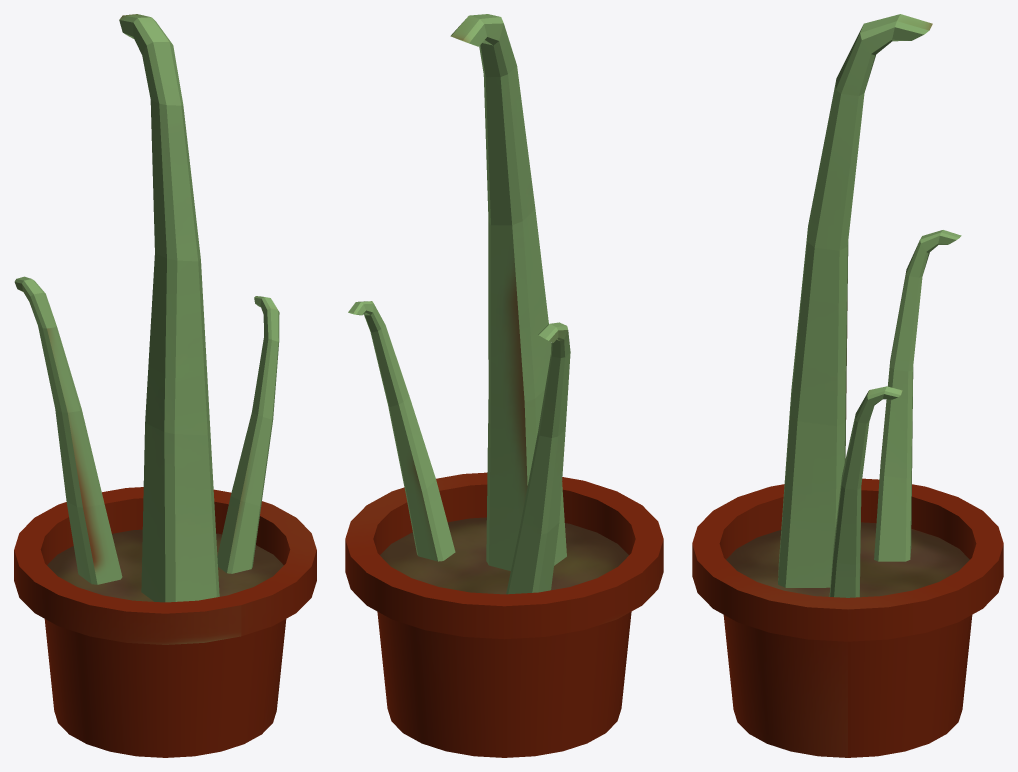
File: Cucumber_lvl_3_headless.glb
3 renders of one model, left to right at view 1: azimuth 30°, elevation 25°; view 2: azimuth 150°, elevation 25°; view 3: azimuth 270°, elevation 25°, orthographic. The views are drawn at different scales.
Parts seen in each view (by area): view 1: Cucumber_lvl_3_headless; view 2: Cucumber_lvl_3_headless; view 3: Cucumber_lvl_3_headless.
Boxes of the visible parts, left/top/right/bottom form: Cucumber_lvl_3_headless: left=14, top=14, right=316, bottom=757; Cucumber_lvl_3_headless: left=345, top=14, right=663, bottom=757; Cucumber_lvl_3_headless: left=692, top=14, right=1003, bottom=757.
Bounding box in the file's own units: 1.07 × 2.62 × 1.07.
Materials: 1 (1 with a texture image).
